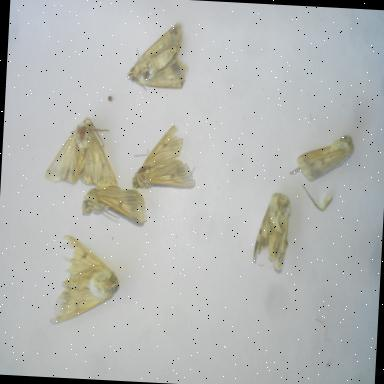abw: (47, 230, 123, 330), (39, 112, 124, 190), (126, 116, 204, 200), (122, 15, 193, 98), (249, 186, 296, 278), (286, 127, 358, 186), (74, 177, 152, 231)
